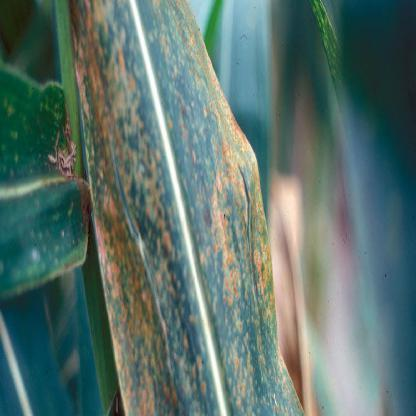Corn rust leaf: (67, 3, 302, 414)
